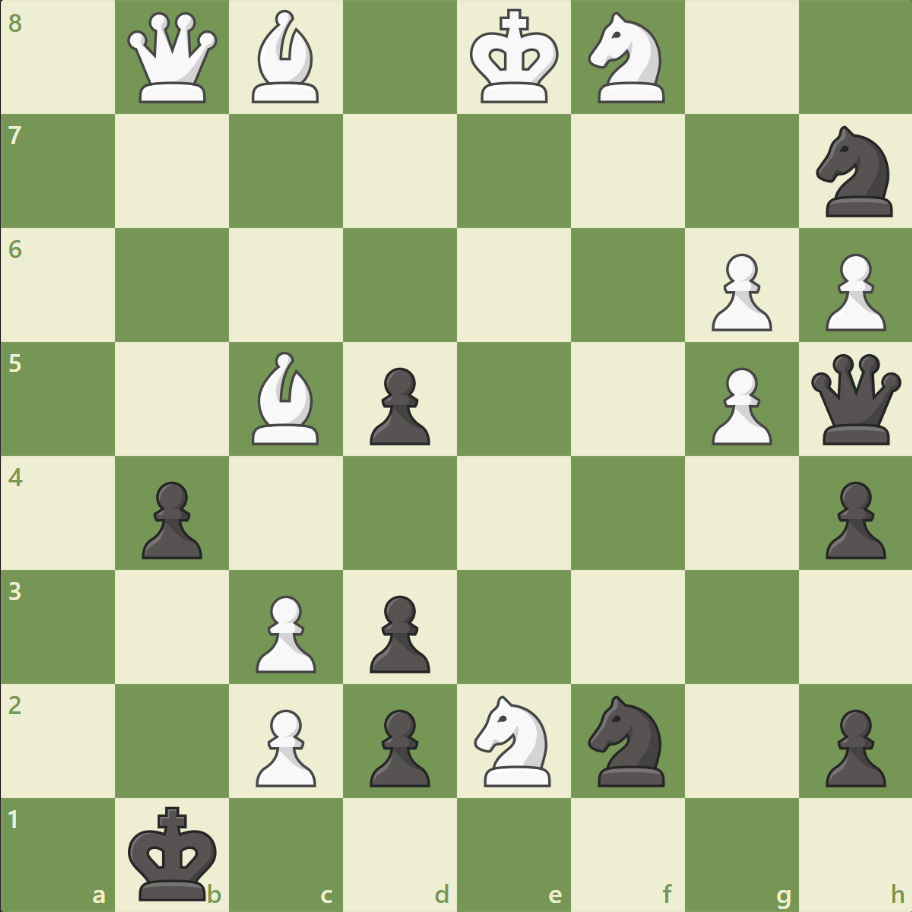B: (244, 6, 328, 109), (244, 347, 328, 449)
K: (465, 4, 565, 112)
N: (579, 7, 676, 110), (465, 688, 562, 791)
P: (701, 246, 776, 337), (701, 359, 776, 450), (247, 586, 322, 677), (247, 700, 322, 791), (815, 246, 889, 337)
Q: (124, 9, 223, 108)
k: (124, 798, 224, 906)
n: (579, 688, 676, 791), (806, 121, 903, 223)
p: (133, 473, 208, 564), (361, 359, 435, 450), (815, 473, 889, 564), (361, 586, 435, 677), (361, 700, 435, 791), (815, 700, 889, 791)
q: (805, 349, 904, 449)
